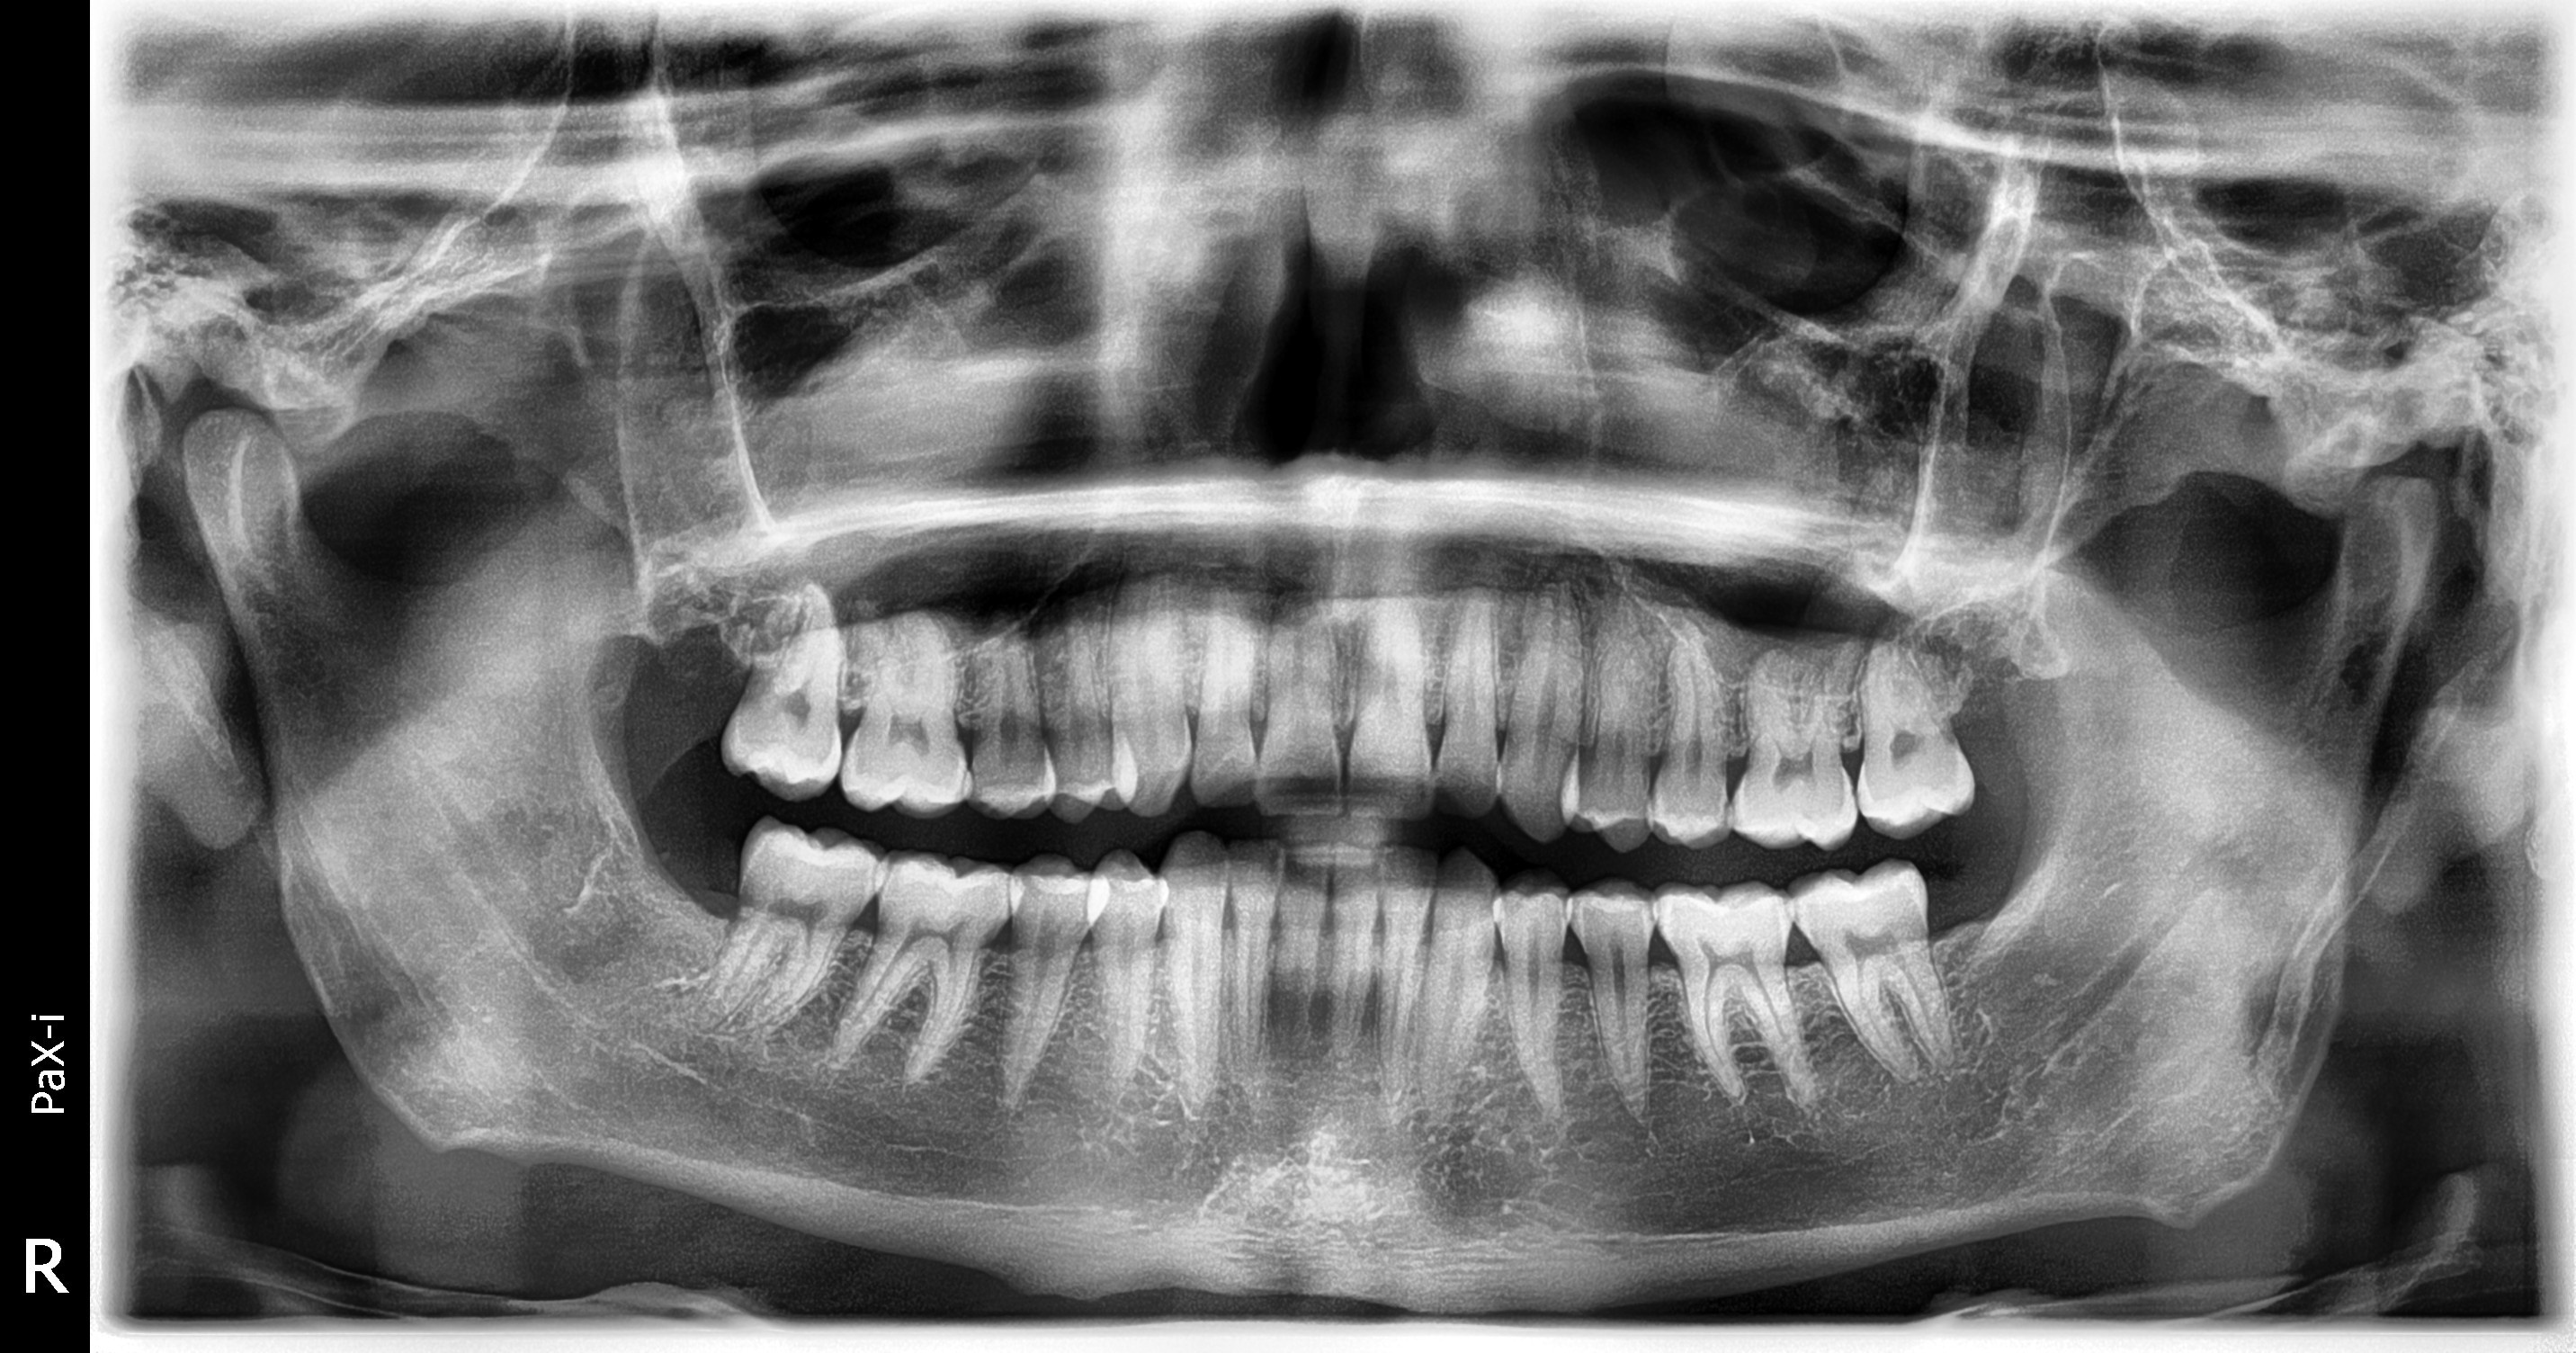CAR: (738, 665, 782, 707)
